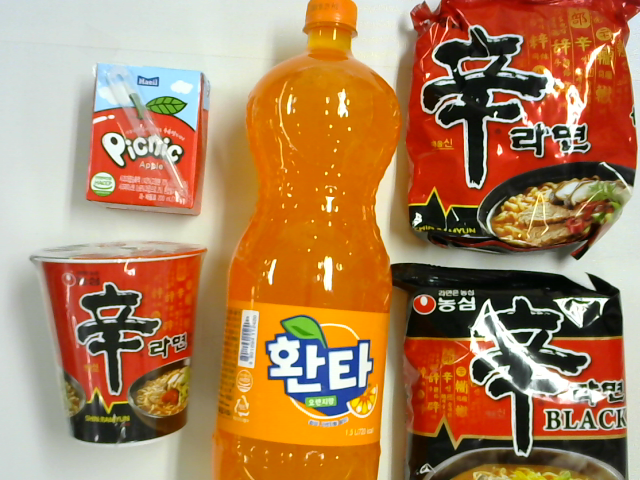Hwanta_Orange_1.5L: (229, 21, 390, 480)
Picnic_Apple: (71, 56, 223, 228)
Sinramen: (408, 1, 637, 254)
Sinramen_Black: (401, 273, 619, 480)
Sinramen_small: (31, 249, 209, 437)
